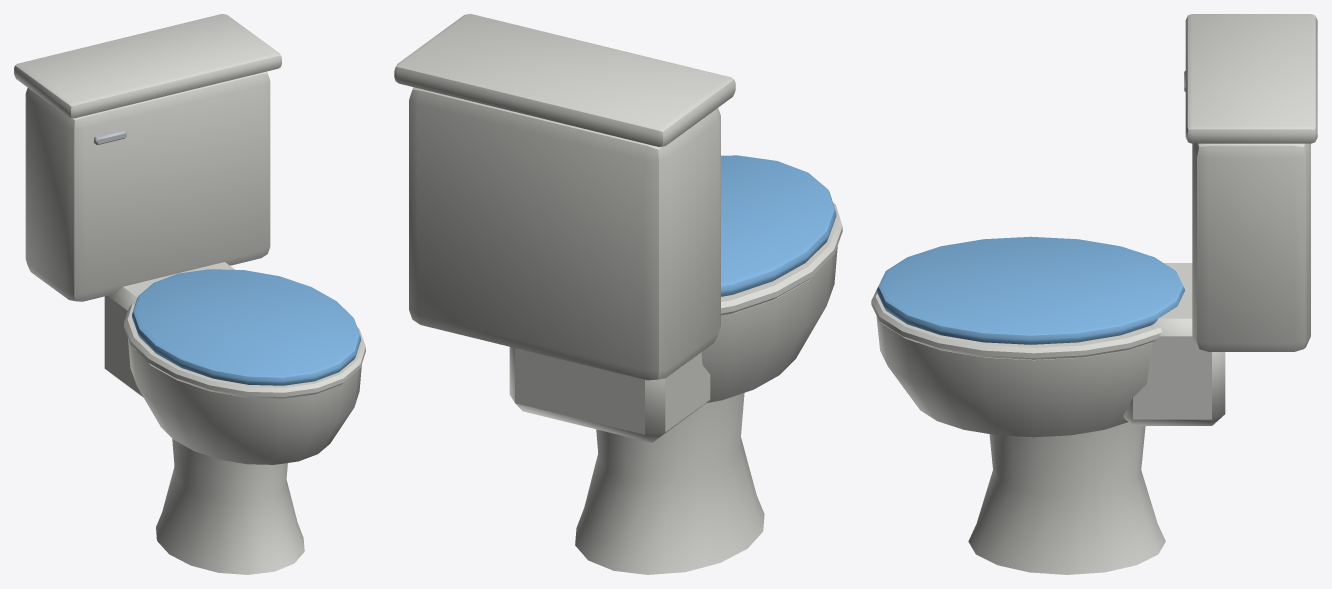
Rendered from toilet.glb.
The picture shows the model from 3 angles, left to right: view 1: azimuth 30°, elevation 25°; view 2: azimuth 150°, elevation 25°; view 3: azimuth 270°, elevation 25°; orthographic projection. The views are drawn at different scales.
Visible parts, largest first — view 1: body; view 2: body; view 3: body.
Boxes of the visible parts, <box> form: body: <box>14,14,365,574</box>; body: <box>394,14,842,574</box>; body: <box>871,14,1317,574</box>.
Bounding box in the file's own units: 42 × 79 × 67.7.
